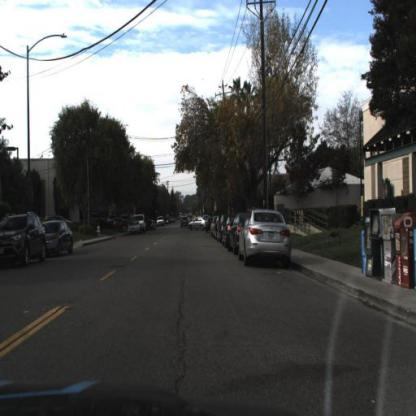car: (239, 205, 292, 265), (0, 210, 46, 268), (45, 219, 74, 256), (225, 208, 241, 258), (114, 214, 135, 236)
